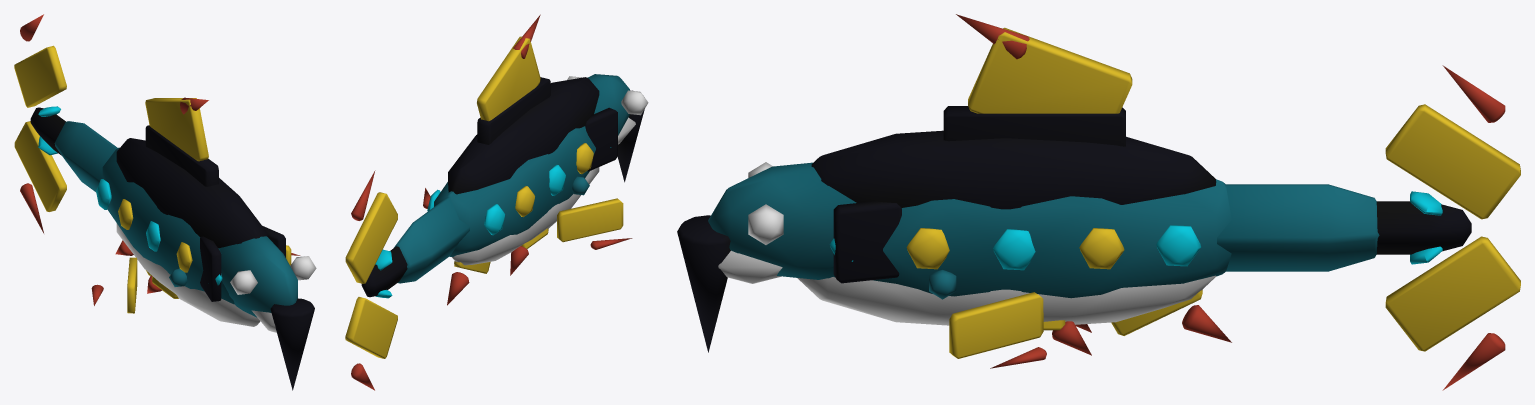
The model's file is fish_school.glb.
3 renders of one model, left to right at view 1: azimuth 30°, elevation 25°; view 2: azimuth 150°, elevation 25°; view 3: azimuth 270°, elevation 25°, orthographic. The views are drawn at different scales.
Parts seen in each view (by area): view 1: fish_school; view 2: fish_school; view 3: fish_school.
Boxes of the visible parts, x1,y1,x2,y2 form: fish_school: (14, 14, 316, 390); fish_school: (345, 14, 648, 390); fish_school: (677, 14, 1520, 390).
Size of the model in its own units: 0.1842 by 0.2167 by 0.4395.
